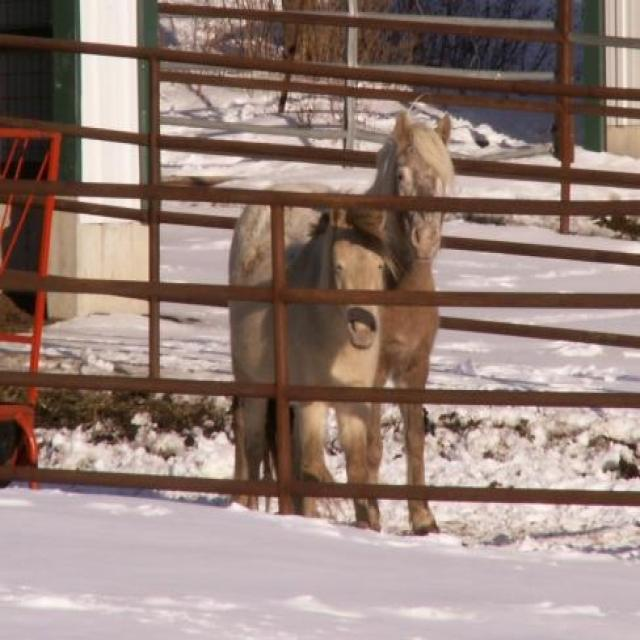horse: (230, 110, 451, 535), (230, 208, 384, 530)
